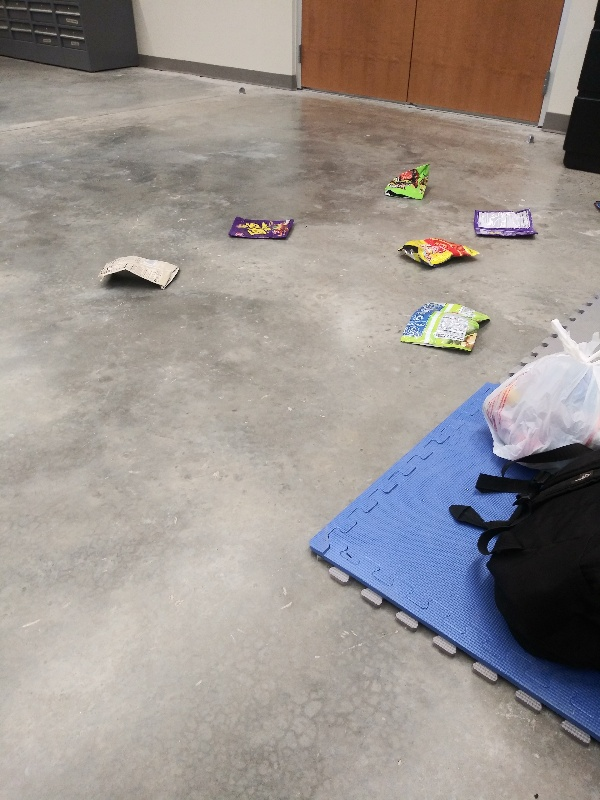bag: (394, 297, 497, 358), (92, 253, 186, 291), (392, 235, 488, 272), (470, 203, 543, 244), (222, 211, 299, 244), (382, 159, 438, 204)
